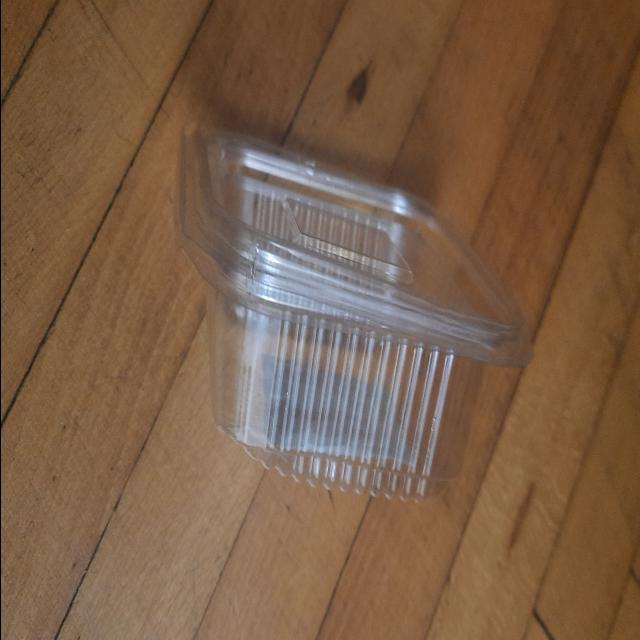plastic: (178, 130, 527, 497)
